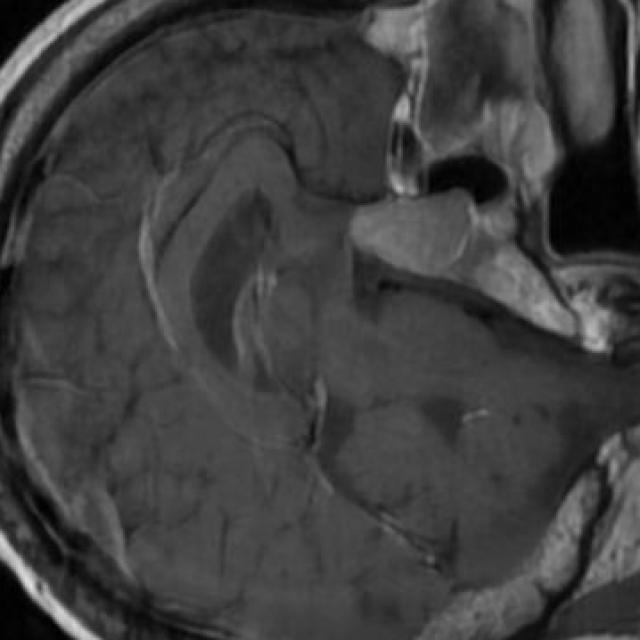pituitary: (349, 191, 476, 276)
